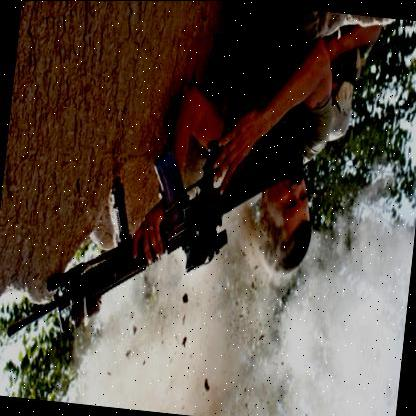rifle: (4, 83, 296, 369)
